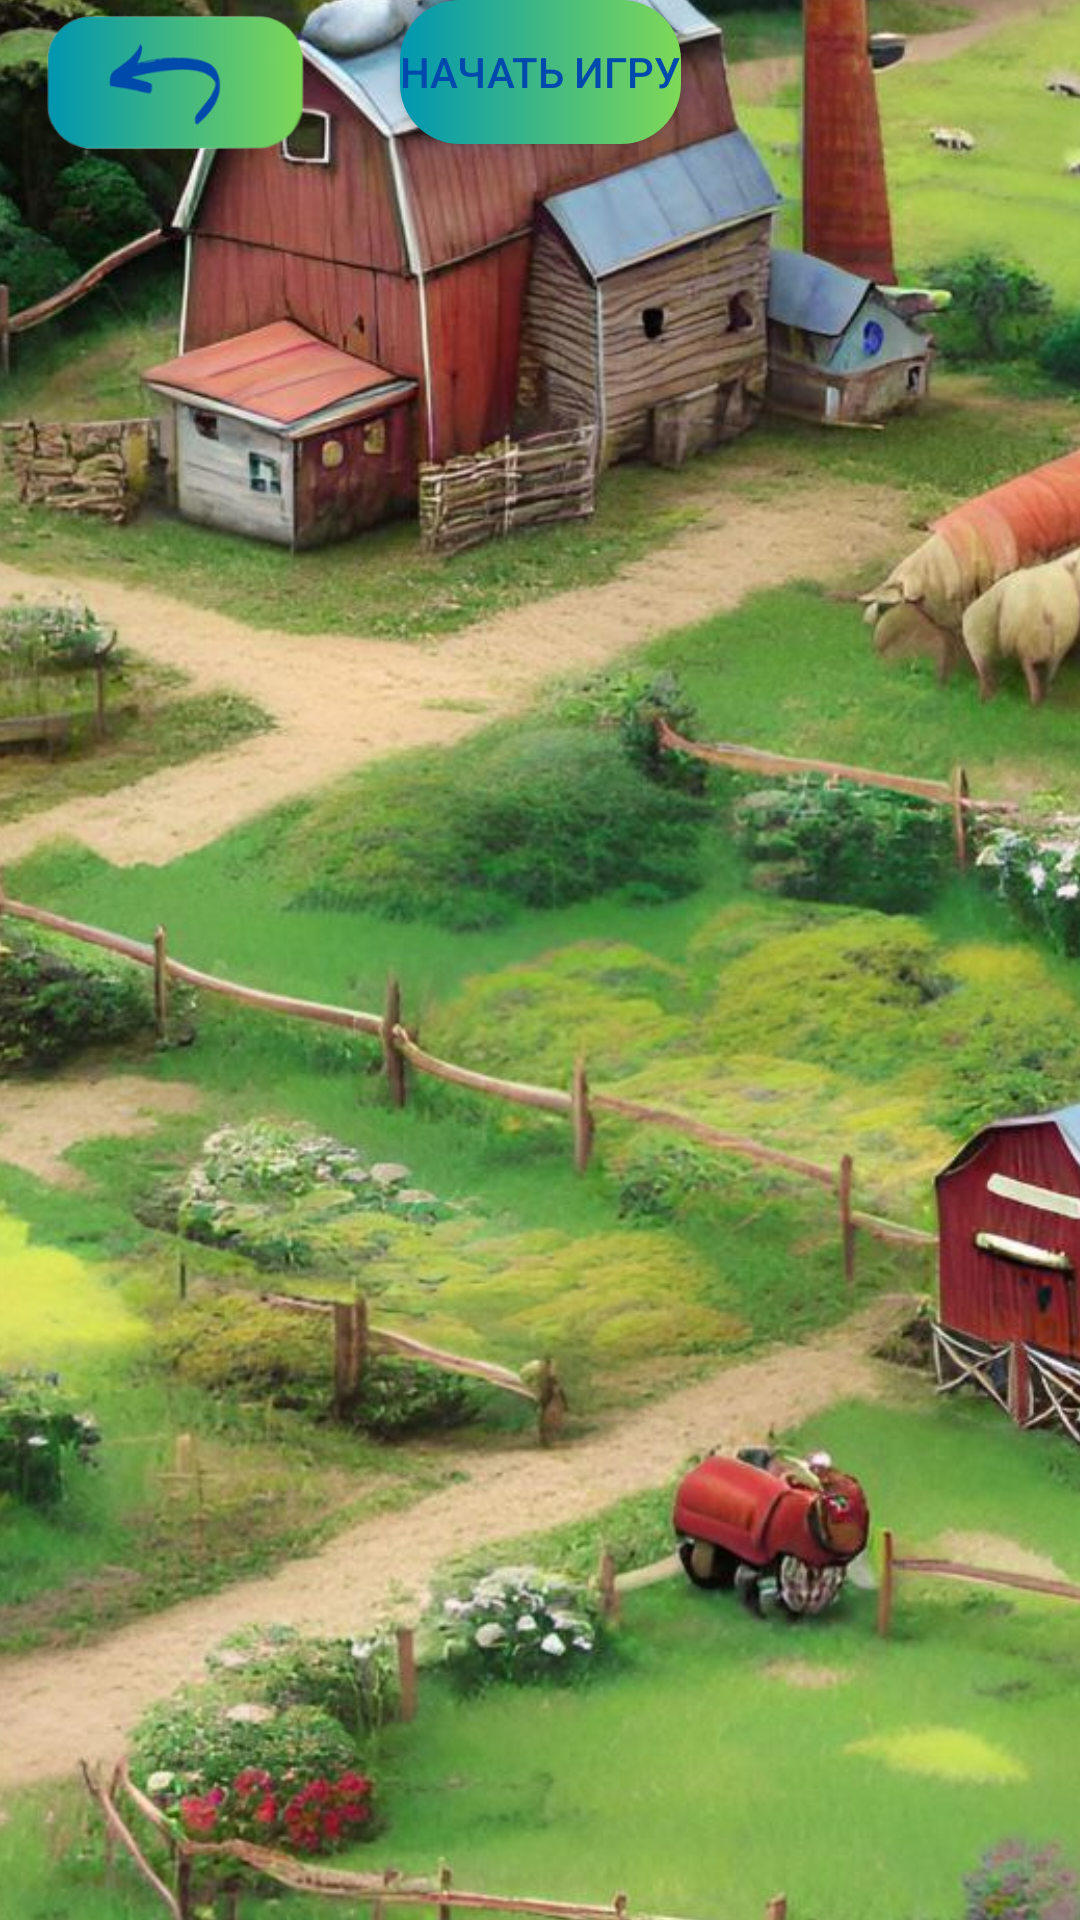

Where to tap for icons on this 1080×1920 app screen, as (x=x, y=y):
back: (x=175, y=82)
